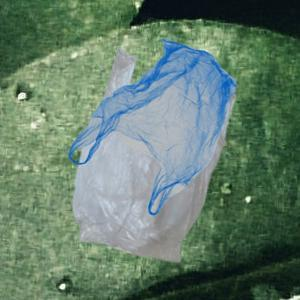plastic_bag: (70, 48, 235, 266), (63, 36, 236, 219)
